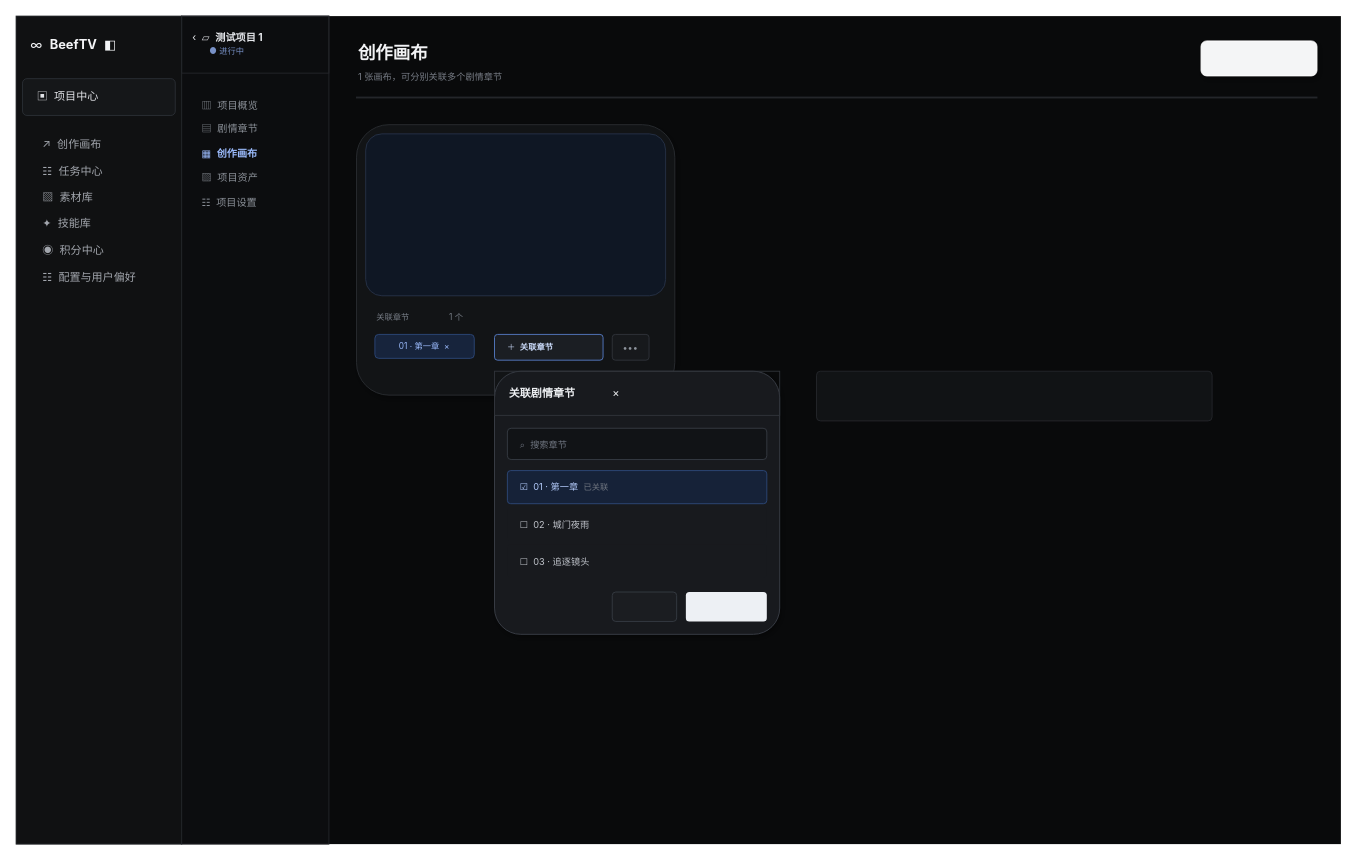
Image size: 1357x860. Some labels were removed from this diagram. The centre of each missing label's shape, as x and y in pixels:
交互变化：原来的 Select 改成可搜索多选浮层；一次保存多个关联，写操作失败时保留浮层并显示行内错误。: [1014,395]
保存关联: [725,606]
取消: [644,606]
画布 01 111 更新于 07/24 22:24: [515,214]
＋ 新建画布: [1259,59]
